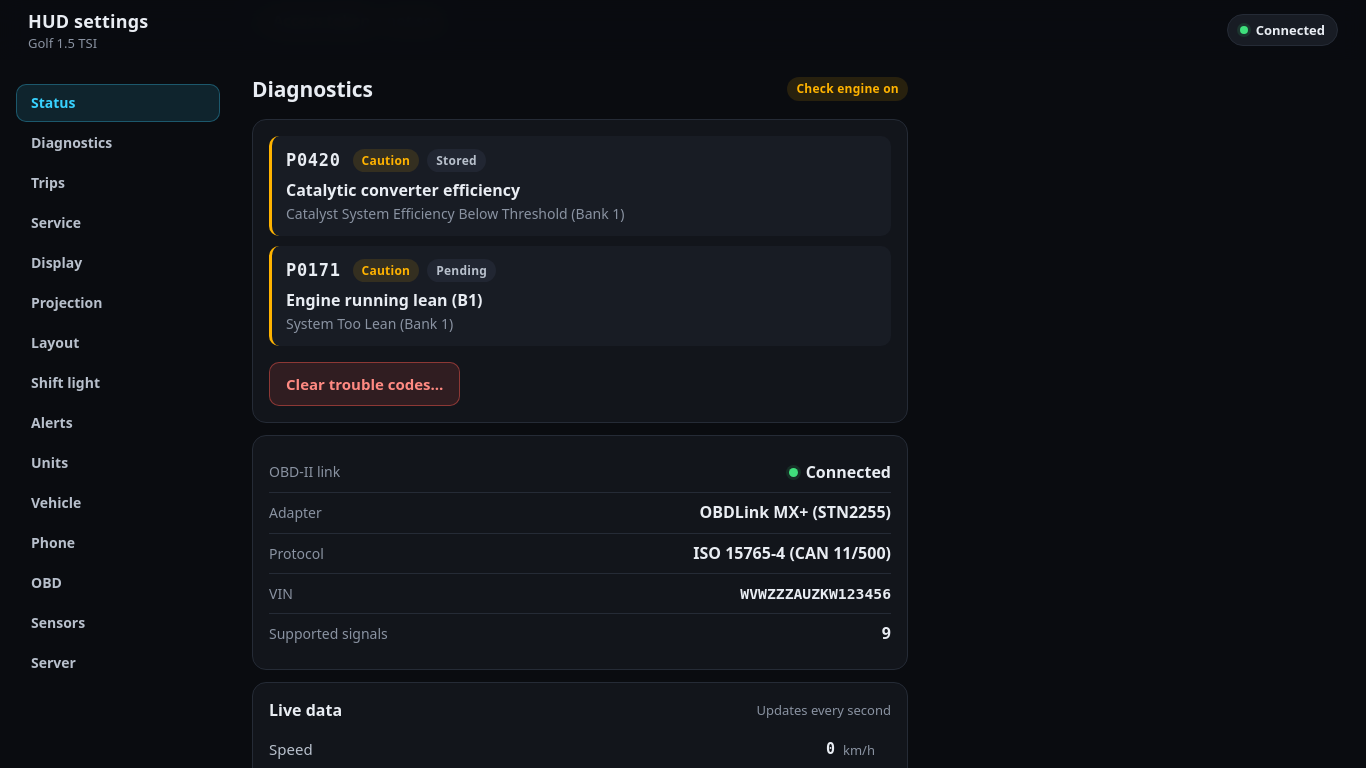
Scenario: settings app › asks before clearing trouble codes and shows the HUD’s refusal
Click the button "Clear trouble codes…".
click(365, 384)  # box top-left (269, 362), bottom-right (460, 406)
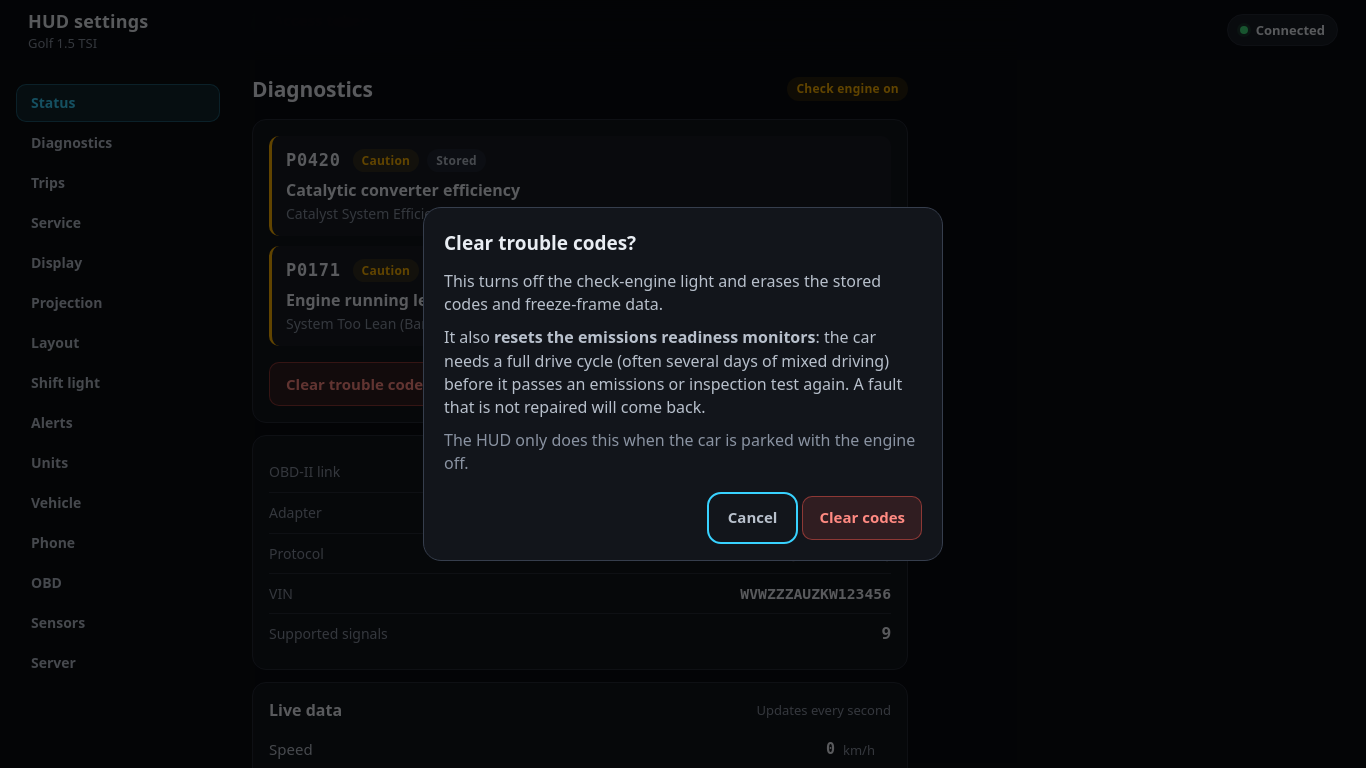
Expected: the dialog shows "resets the emissions readiness monitors", top-left (494, 326), bottom-right (816, 348)
Click the button "Clear codes".
click(862, 518)  # box top-left (802, 496), bottom-right (922, 540)
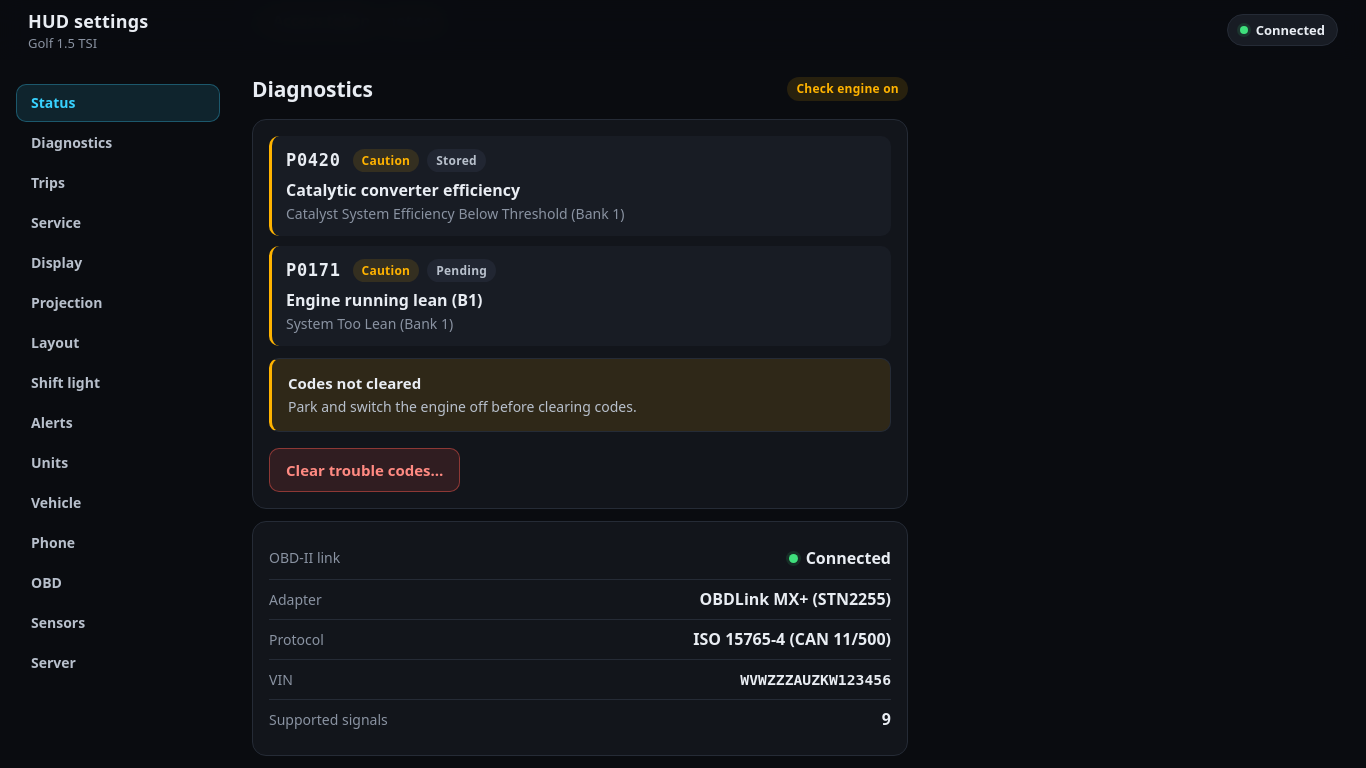
Expected: the dialog is gone
